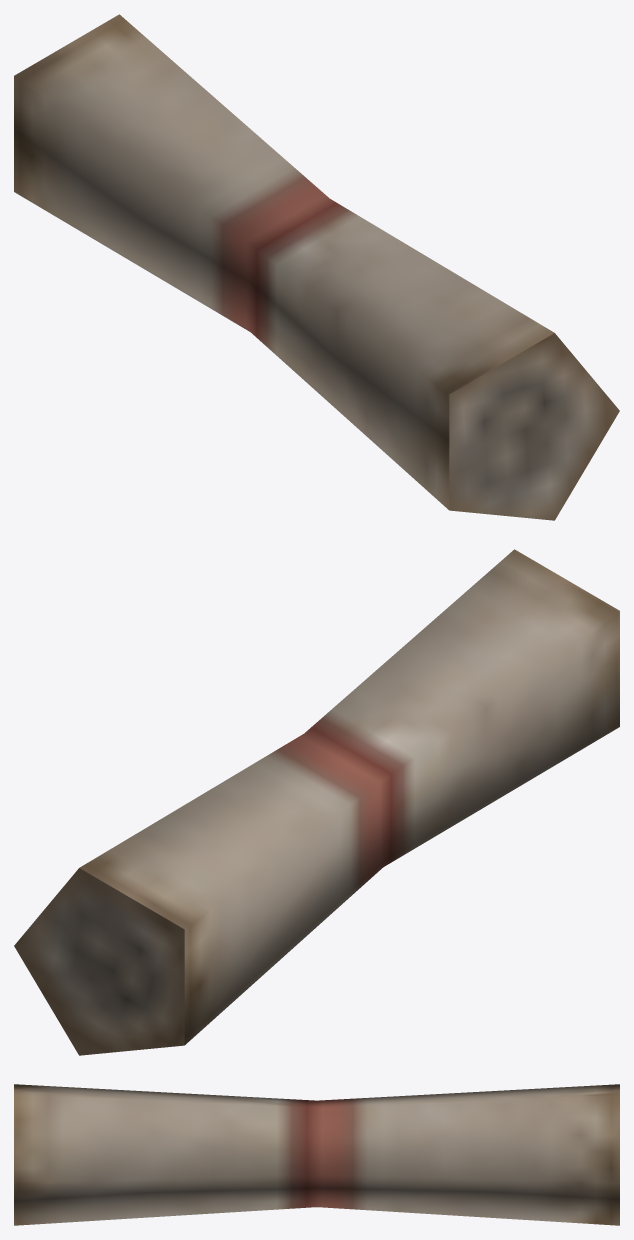
File: etc_prop_10.FBX
3 renders of one model, top to bottom at view 1: azimuth 30°, elevation 25°; view 2: azimuth 150°, elevation 25°; view 3: azimuth 270°, elevation 25°, orthographic. The views are drawn at different scales.
Parts seen in each view (by area): view 1: etc_prop_10; view 2: etc_prop_10; view 3: etc_prop_10.
Boxes of the visible parts, x1,y1,x2,y2 form: etc_prop_10: (14,14,619,520); etc_prop_10: (14,549,619,1055); etc_prop_10: (14,1084,619,1225).
Bounding box in the file's own units: 6.48 × 6.82 × 28.65.
